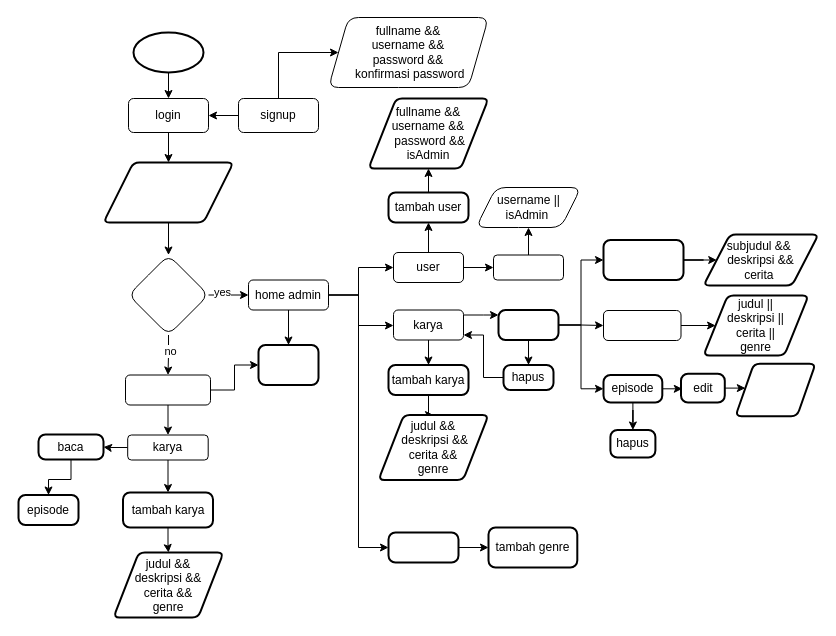
Some shapes in this 836 by 636 pixel diagram are drawn without their labels. Each missing label, with the centre of its shape:
edit karya: [641,325]
edit user: [528,267]
genre: [423,547]
home: [167,389]
if admin == true: [168,294]
judul || deskripsi || cerita: [775,389]
logout: [288,365]
pilih karya: [528,324]
start: [168,52]
tambah episode baru: [643,259]
username && password: [168,192]
